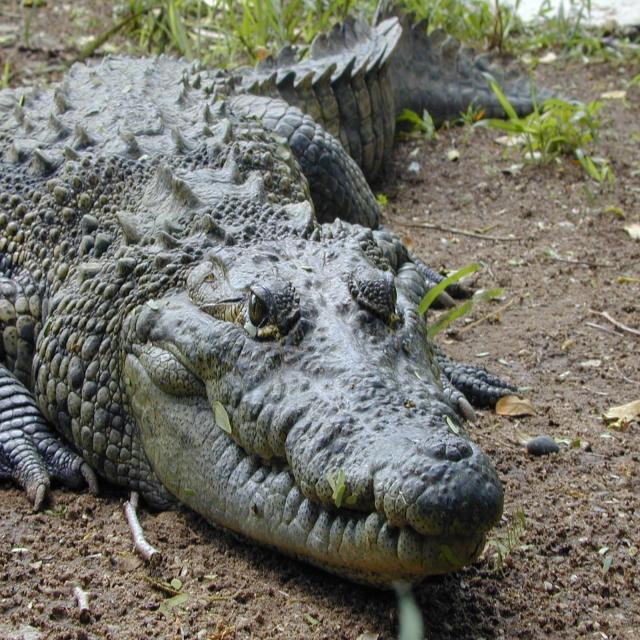crocodile: (0, 4, 567, 596)
